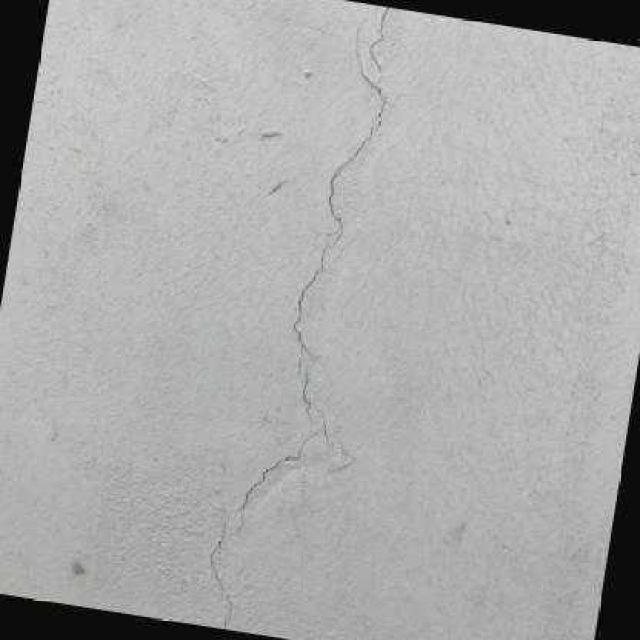D00: (198, 5, 405, 625)
